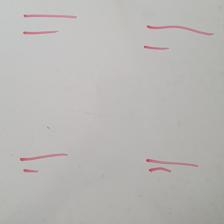three-prime-overhang: (142, 24, 215, 53), (22, 13, 79, 36), (18, 152, 71, 174), (144, 159, 200, 175)
